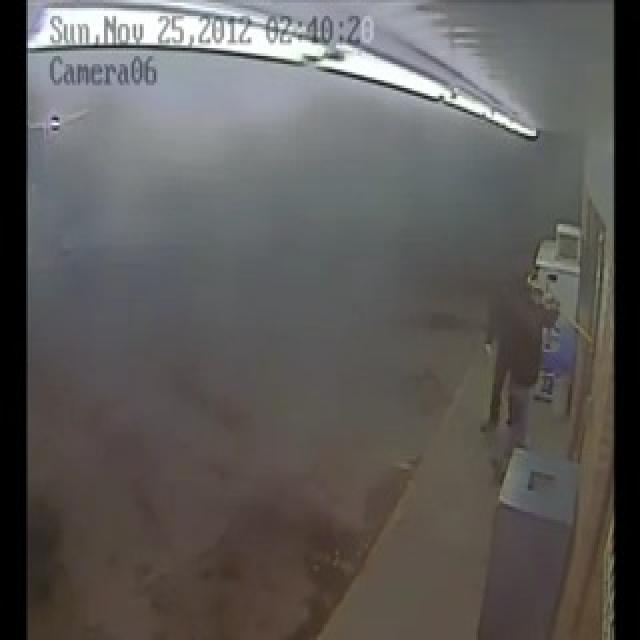thief: (480, 260, 548, 453)
